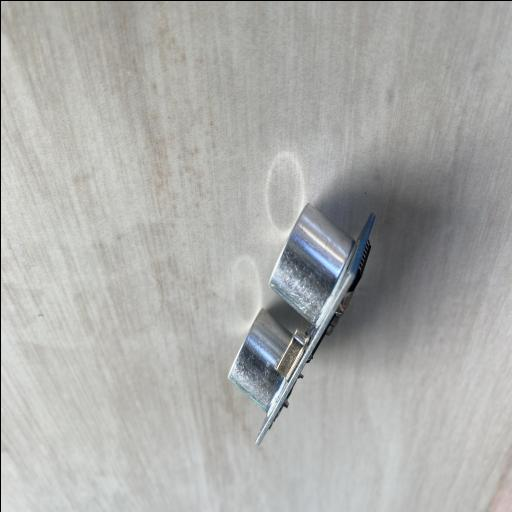Ultrasonic Sensor: (225, 202, 375, 448)
